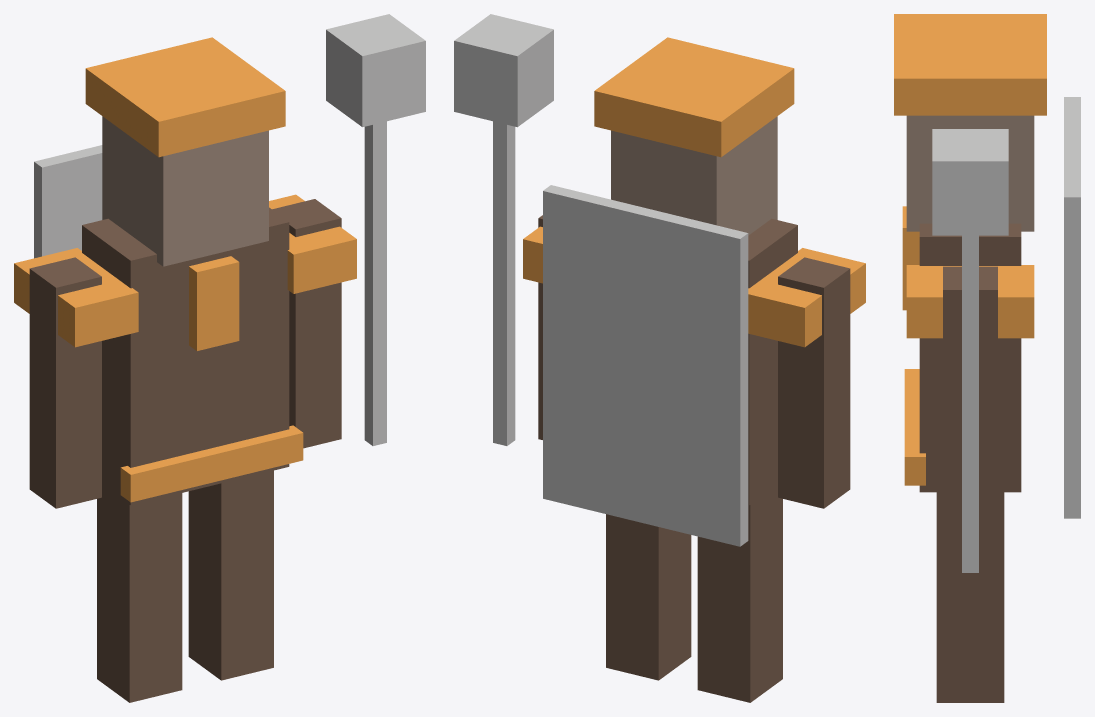
File: 11_ilyra_emberkin_scout_at_hound.glb
3 views of the same model, side by side, from view 1: azimuth 30°, elevation 25°; view 2: azimuth 150°, elevation 25°; view 3: azimuth 270°, elevation 25° (orthographic). The views are drawn at different scales.
Parts seen in each view (by area): view 1: Ilyra Emberkin, Scout at Hound; view 2: Ilyra Emberkin, Scout at Hound; view 3: Ilyra Emberkin, Scout at Hound.
Part boxes in pixels (box(x1,y1,x2,y2)): Ilyra Emberkin, Scout at Hound: box(14, 14, 425, 702); Ilyra Emberkin, Scout at Hound: box(454, 14, 865, 702); Ilyra Emberkin, Scout at Hound: box(894, 14, 1080, 702).
Bounding box in the file's own units: 1.07 × 1.67 × 0.4555.
